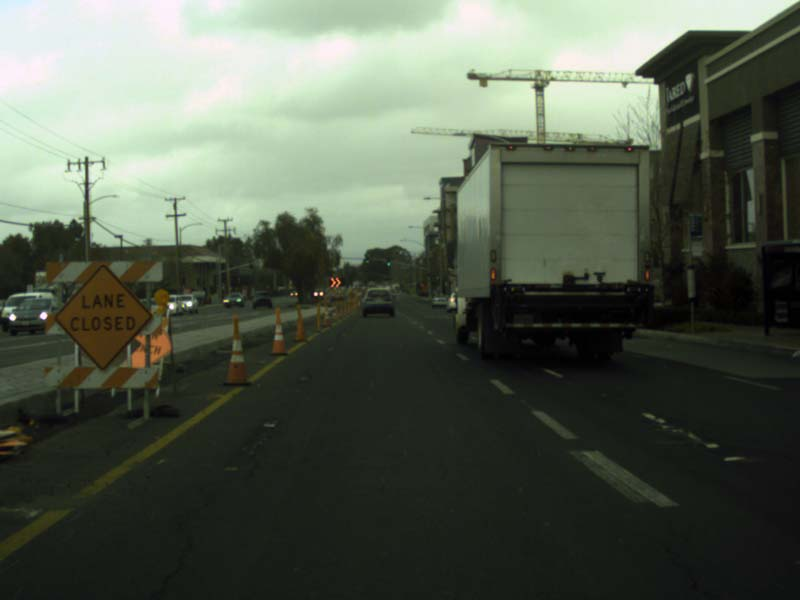Green: (435, 273, 439, 281), (365, 255, 368, 262), (426, 273, 429, 279), (387, 257, 389, 265)
